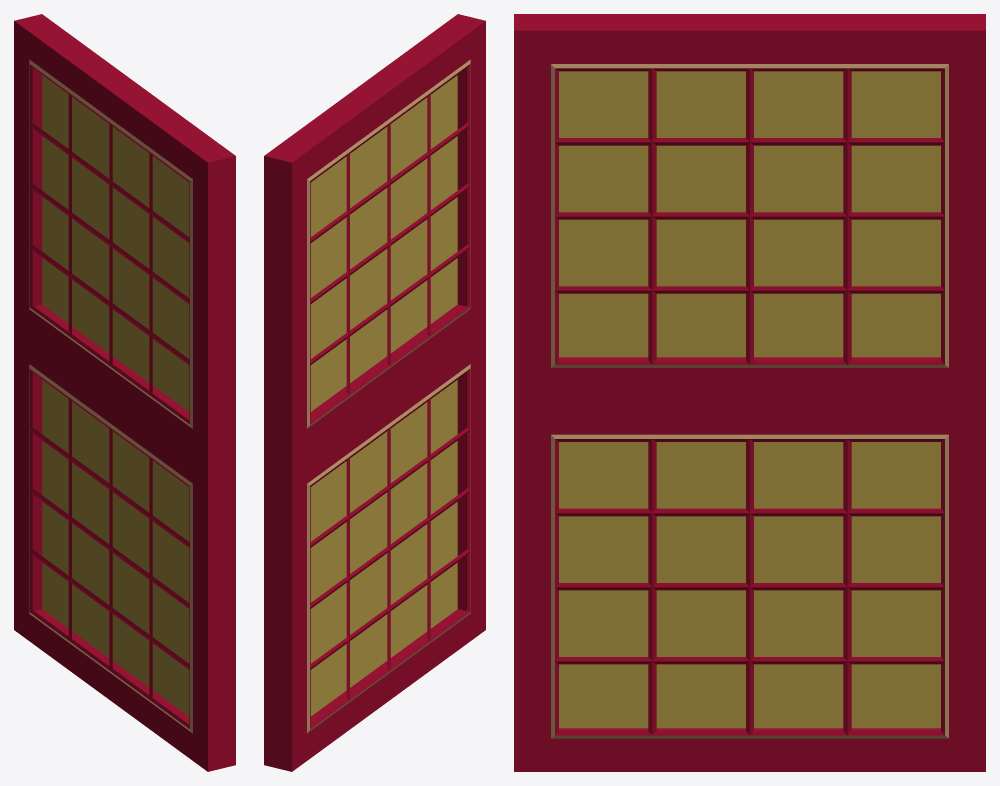
The model's file is red_decorative_wall.fbx.
3 renders of one model, left to right at view 1: azimuth 30°, elevation 25°; view 2: azimuth 150°, elevation 25°; view 3: azimuth 270°, elevation 25°, orthographic. The views are drawn at different scales.
Visible parts, largest first — view 1: red_decorative_wall; view 2: red_decorative_wall; view 3: red_decorative_wall.
Part boxes in pixels (x1,y1,x2,y2): red_decorative_wall: (14,14,235,771); red_decorative_wall: (264,14,485,771); red_decorative_wall: (514,14,985,771).
Bounding box in the file's own units: 26 × 288 × 500.
